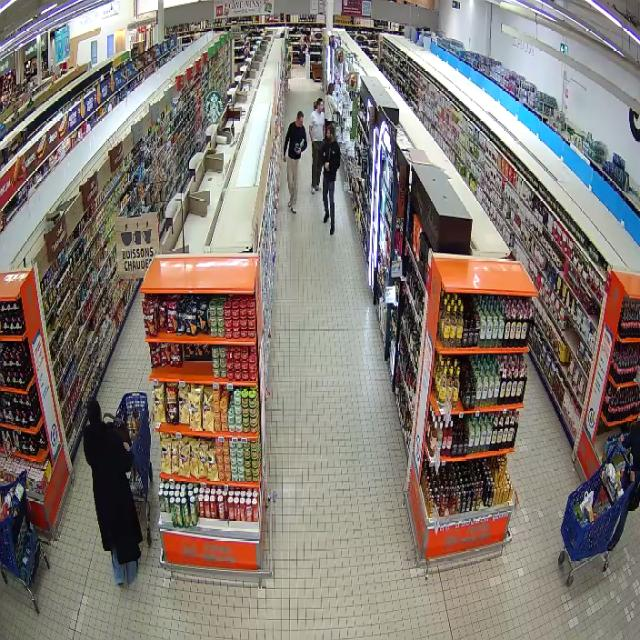article: (295, 142, 300, 151)
hands: (294, 147, 301, 155), (619, 434, 624, 445), (123, 443, 129, 451), (630, 471, 634, 482), (325, 163, 329, 171), (284, 155, 287, 162)
person: (84, 398, 142, 583), (609, 426, 639, 549), (320, 124, 340, 233), (285, 112, 306, 212), (310, 98, 325, 192)
